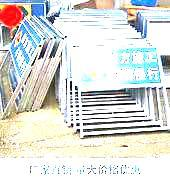sign: (78, 48, 163, 88), (9, 32, 35, 77)
